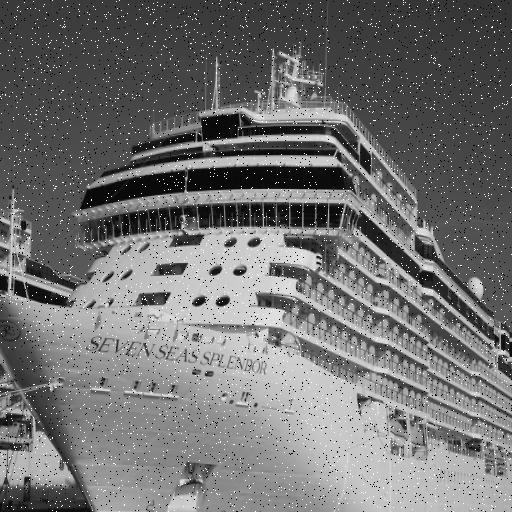cruises: (1, 45, 512, 512)
